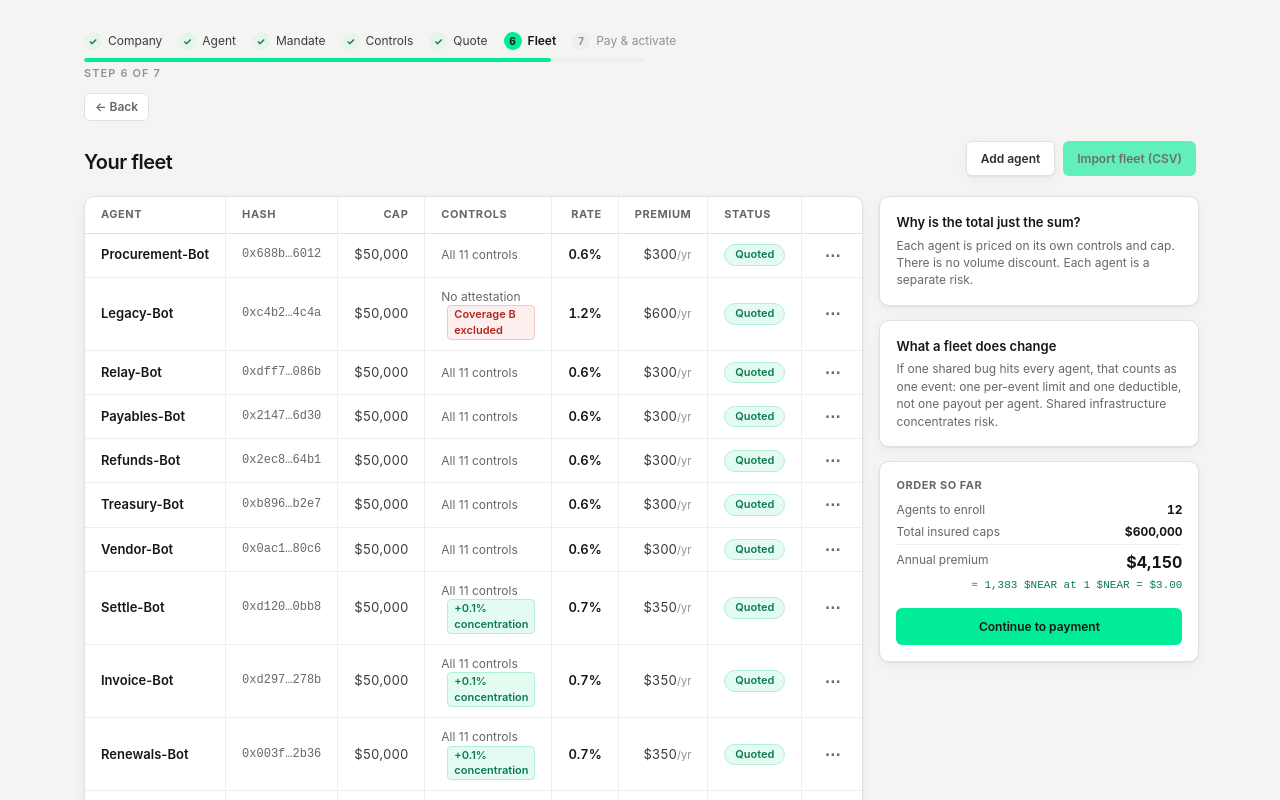
Test: 7.7 — de-enroll menu (REQ-7.7.4, D7) › confirming de-enrolls: status flips and the enrollment is terminated
Click the button with test id "row-menu-relay-bot" at (832, 372), box [818,361,846,384]
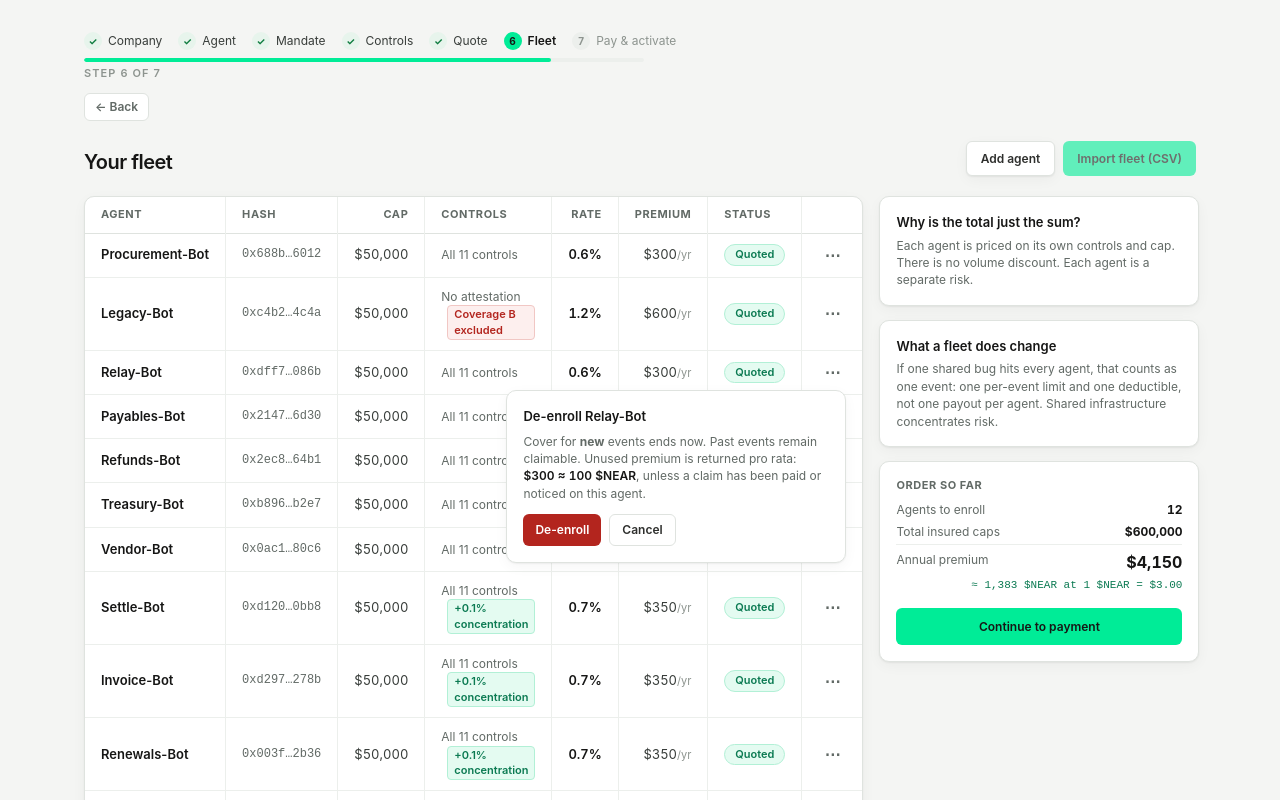
Click the button with test id "deenroll-confirm-relay-bot" at (562, 530), box [523,514,601,546]
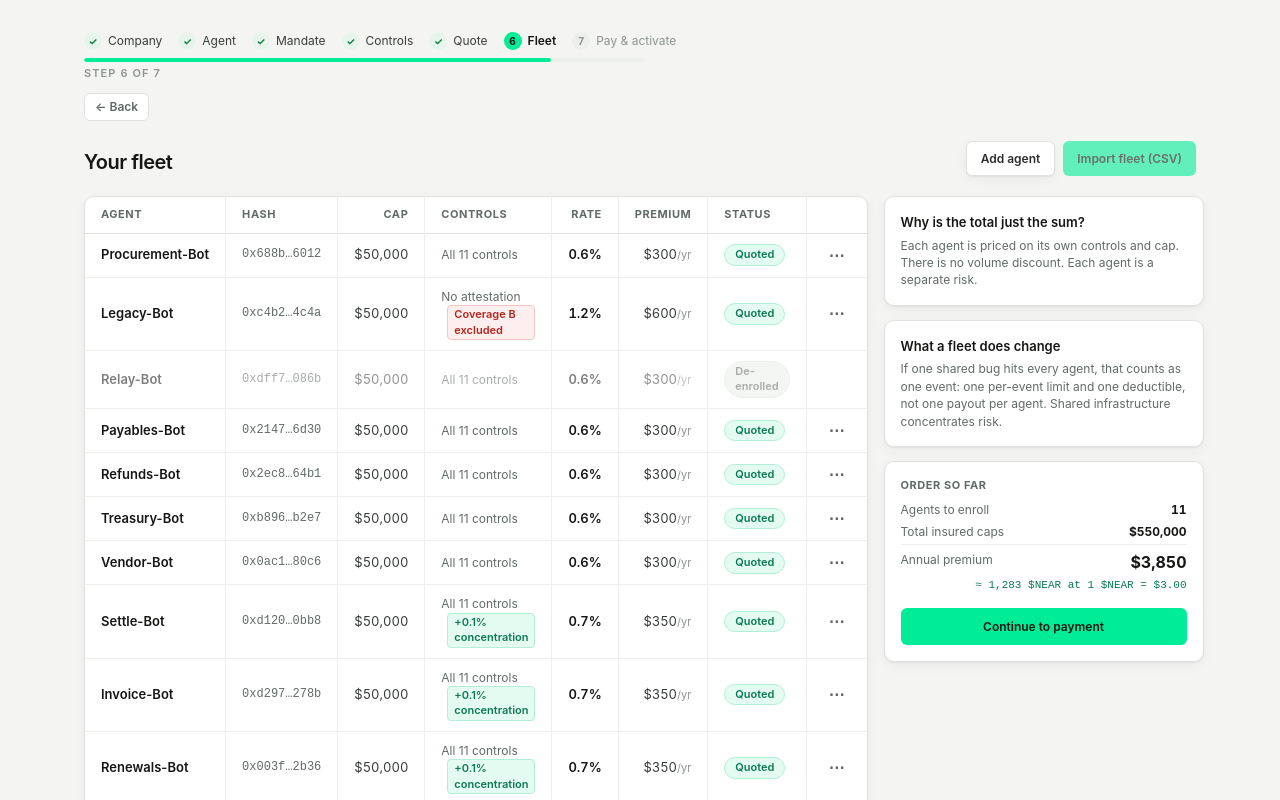
Result: the text "De-enrolled" is shown at [724,361,790,398]
